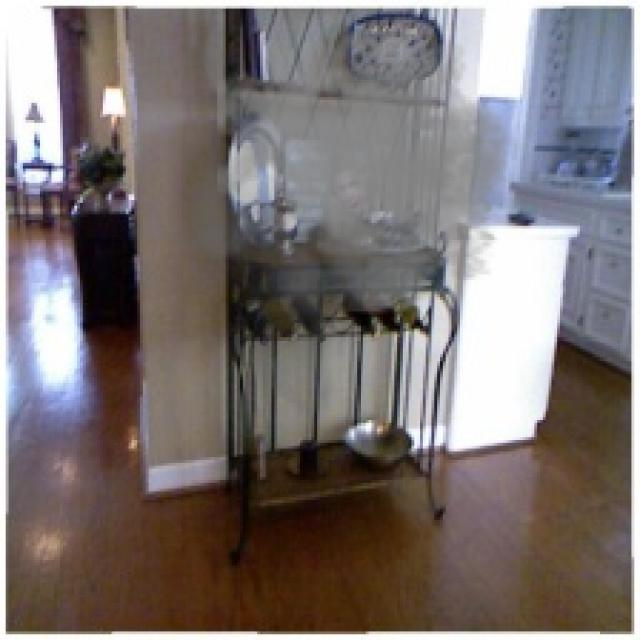smoke: (175, 14, 534, 420)
